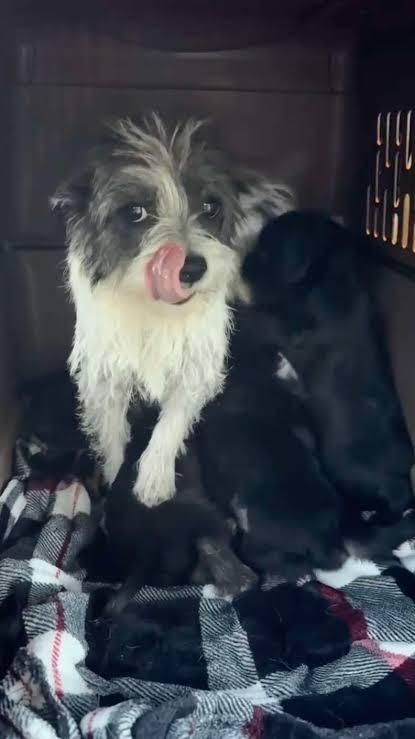adult_dog: (48, 109, 296, 510)
puppy-dog: (240, 208, 415, 535), (194, 348, 349, 578), (79, 466, 259, 600), (13, 363, 89, 485)
